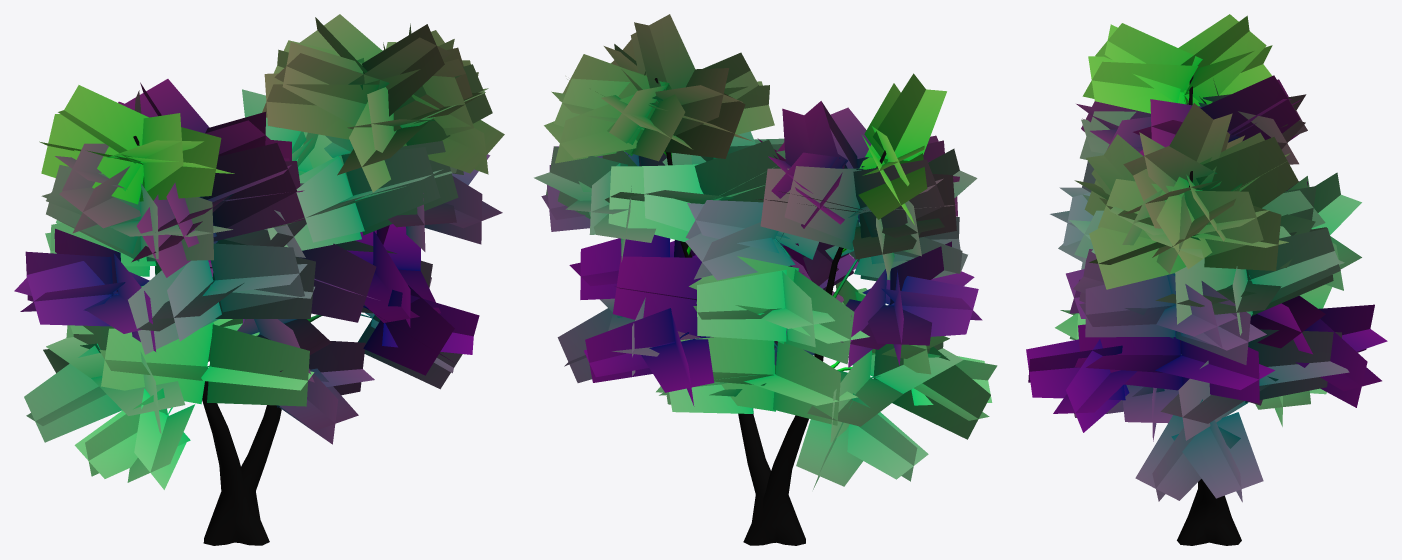
The model's file is Tree_4_10.fbx.
3 renders of one model, left to right at view 1: azimuth 30°, elevation 25°; view 2: azimuth 150°, elevation 25°; view 3: azimuth 270°, elevation 25°, orthographic. The views are drawn at different scales.
Parts seen in each view (by area): view 1: _10; view 2: _10; view 3: _10.
Boxes of the visible parts, x1,y1,x2,y2 form: _10: (14,14,504,545); _10: (534,14,997,545); _10: (1026,14,1387,545).
Size of the model in its own units: 2458 by 2522 by 1746.
